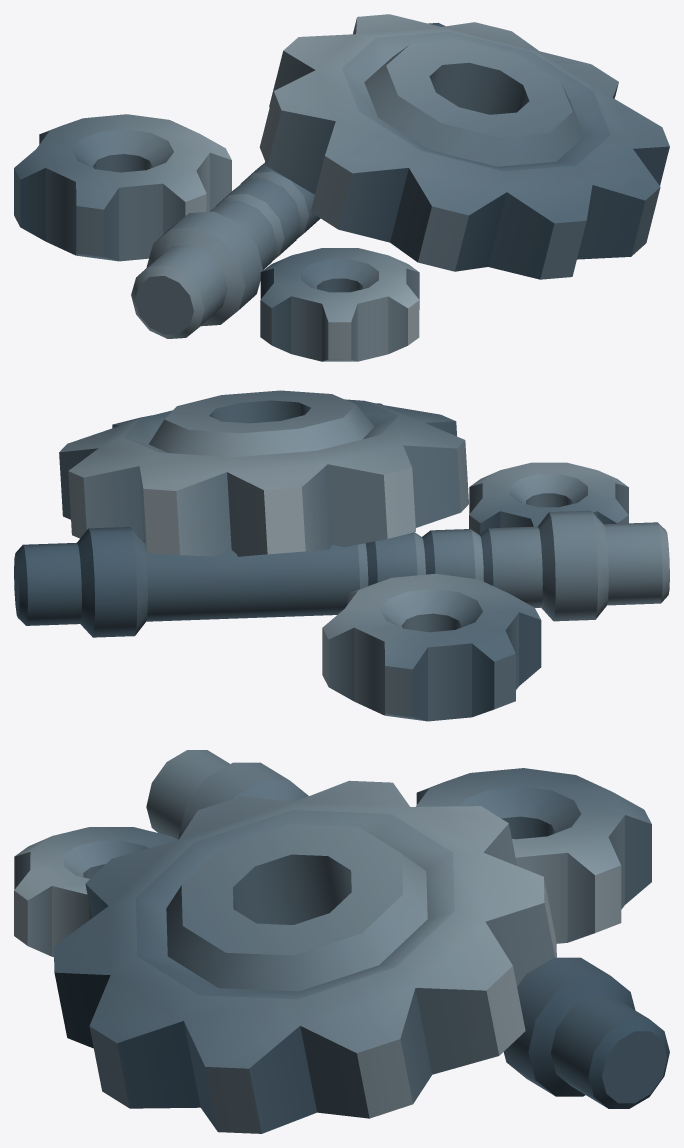
Rendered from parts_pile_small.glb.
3 renders of one model, top to bottom at view 1: azimuth 30°, elevation 25°; view 2: azimuth 150°, elevation 25°; view 3: azimuth 270°, elevation 25°, orthographic. The views are drawn at different scales.
Parts seen in each view (by area): view 1: Parts_Pile_Small; view 2: Parts_Pile_Small; view 3: Parts_Pile_Small.
Part boxes in pixels (x1,y1,x2,y2): Parts_Pile_Small: (14, 14, 669, 361); Parts_Pile_Small: (14, 390, 669, 721); Parts_Pile_Small: (14, 750, 669, 1133).
Size of the model in its own units: 0.6931 by 0.2006 by 0.5946.
1 material, 1 textured.
